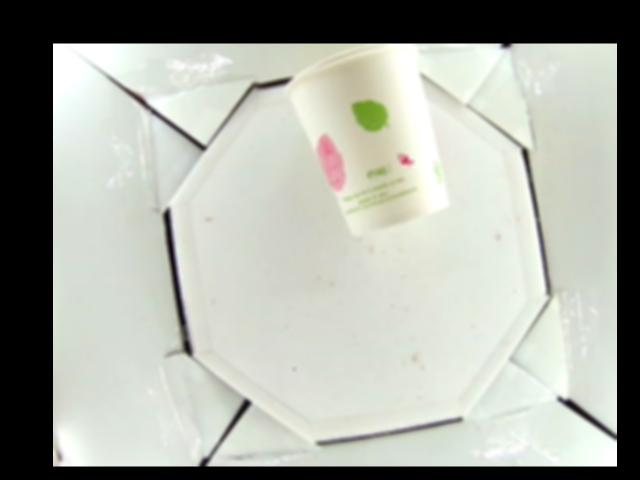Cup: (290, 44, 449, 238)
